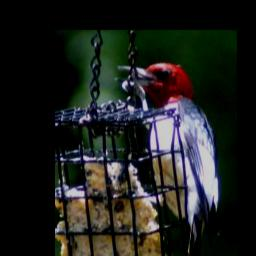Woodpecker: (112, 60, 222, 256)
